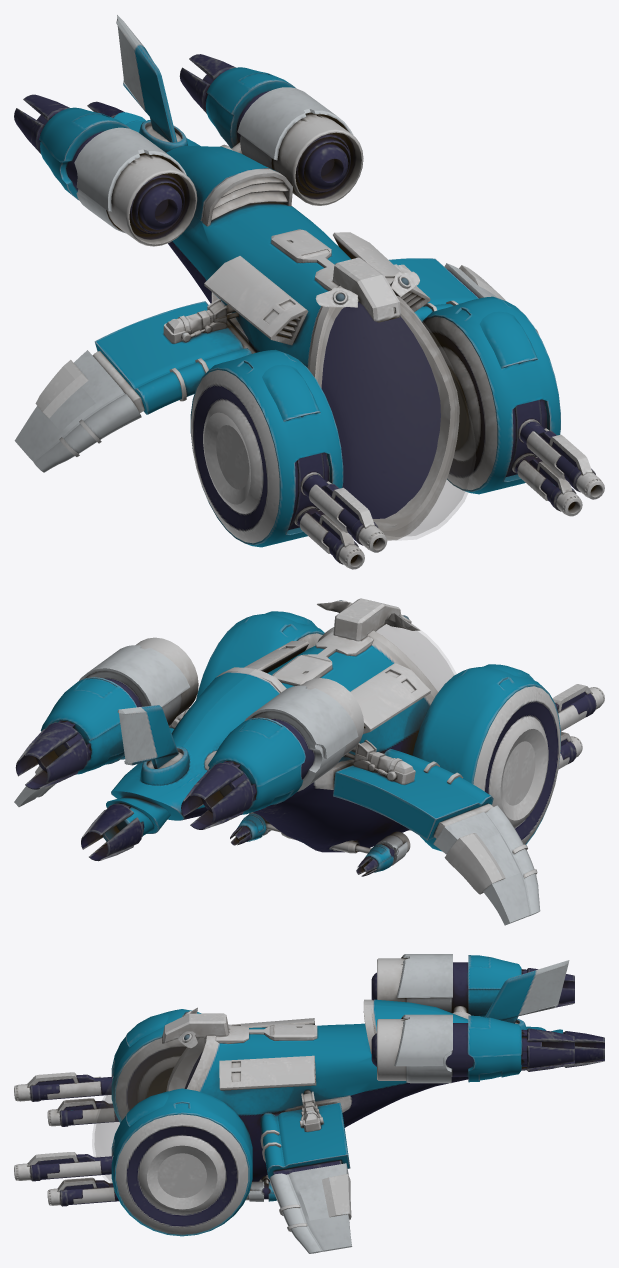
3 renders of one model, top to bottom at view 1: azimuth 30°, elevation 25°; view 2: azimuth 150°, elevation 25°; view 3: azimuth 270°, elevation 25°, orthographic. The views are drawn at different scales.
Parts seen in each view (by area): view 1: polySurface65, glass, polySurface66, body, polySurface121, cabin_bg, polySurface159, polySurface158, polySurface145, headpiece_main, pCube16, polySurface90 (+3 smaller); view 2: body, polySurface65, polySurface121, polySurface159, polySurface158, polySurface66, polySurface145, pCube16, headpiece_main, top_detail, glass, polySurface61 (+11 smaller); view 3: polySurface66, body, polySurface90, polySurface158, polySurface65, polySurface159, glass, pCube16, polySurface134, headpiece_main, top_detail, polySurface50 (+4 smaller).
Boxes of the visible parts, left/top/right/bottom form: polySurface65: left=190, top=349, right=387, bottom=569; glass: left=318, top=298, right=475, bottom=539; polySurface66: left=422, top=296, right=604, bottom=516; body: left=113, top=112, right=459, bottom=540; polySurface121: left=14, top=298, right=255, bottom=472; cabin_bg: left=321, top=302, right=440, bottom=518; polySurface159: left=37, top=107, right=197, bottom=246; polySurface158: left=202, top=67, right=363, bottom=205; polySurface145: left=204, top=256, right=308, bottom=345; headpiece_main: left=315, top=257, right=419, bottom=322; pCube16: left=116, top=15, right=177, bottom=142; polySurface90: left=389, top=258, right=539, bottom=335; body: left=106, top=627, right=438, bottom=852; polySurface65: left=412, top=664, right=604, bottom=851; polySurface121: left=333, top=739, right=540, bottom=925; polySurface159: left=201, top=678, right=364, bottom=814; polySurface158: left=35, top=637, right=198, bottom=774; polySurface66: left=196, top=611, right=324, bottom=699; polySurface145: left=350, top=663, right=430, bottom=733; pCube16: left=117, top=705, right=178, bottom=768; headpiece_main: left=317, top=598, right=420, bottom=640; top_detail: left=272, top=630, right=373, bottom=685; glass: left=376, top=624, right=455, bottom=691; polySurface61: left=332, top=831, right=410, bottom=876; polySurface66: left=14, top=1088, right=252, bottom=1236; body: left=166, top=999, right=562, bottom=1181; polySurface90: left=260, top=1090, right=352, bottom=1253; polySurface158: left=371, top=1014, right=541, bottom=1083; polySurface65: left=14, top=1009, right=201, bottom=1126; polySurface159: left=371, top=954, right=521, bottom=1016; glass: left=92, top=1034, right=205, bottom=1182; pCube16: left=485, top=960, right=569, bottom=1023; polySurface134: left=219, top=1055, right=316, bottom=1090; headpiece_main: left=162, top=1007, right=228, bottom=1048; top_detail: left=215, top=1024, right=317, bottom=1043; polySurface50: left=521, top=1045, right=574, bottom=1068.
Bounding box in the file's own units: 7.27 × 4.43 × 9.88.
4 materials, 4 textured.
